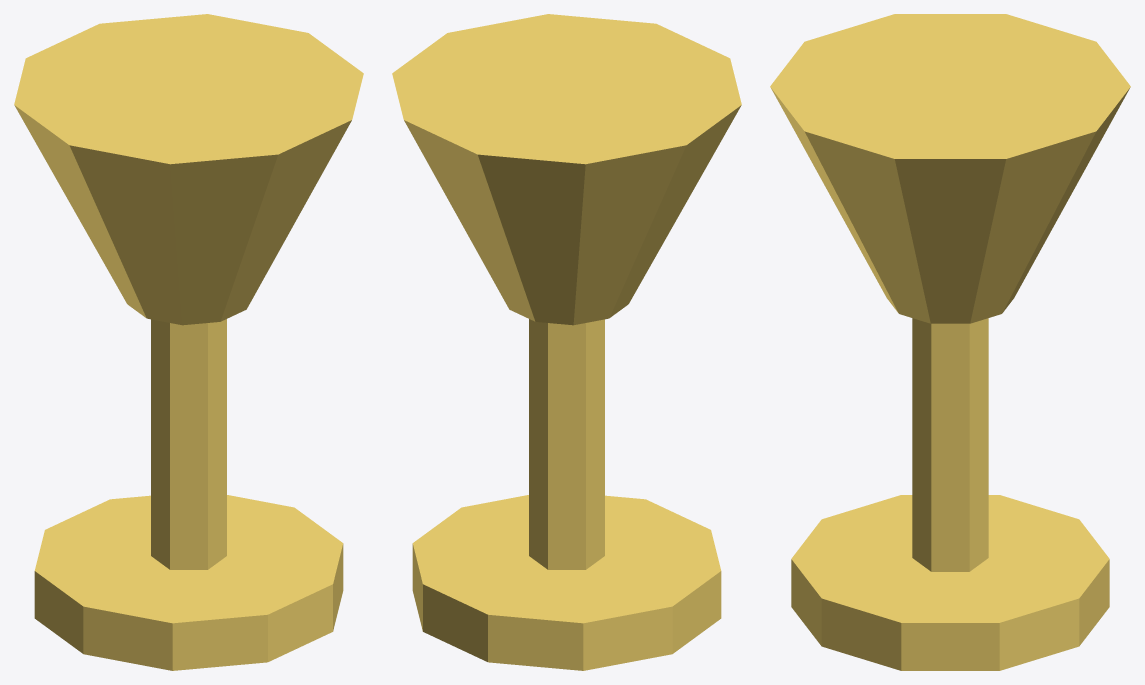
3 views of the same model, side by side, from view 1: azimuth 30°, elevation 25°; view 2: azimuth 150°, elevation 25°; view 3: azimuth 270°, elevation 25° (orthographic).
Visible parts, largest first — view 1: Cup, Foot, Stem; view 2: Cup, Foot, Stem; view 3: Cup, Foot, Stem.
Boxes of the visible parts, x1,y1,x2,y2 form: Cup: (14,14,363,325); Foot: (34,495,343,670); Stem: (151,319,226,569); Cup: (392,14,741,325); Foot: (412,495,721,670); Stem: (529,319,604,569); Cup: (770,14,1130,323); Foot: (791,495,1109,670); Stem: (912,318,988,571).
Size of the model in its own units: 16.17 by 27.05 by 17.
